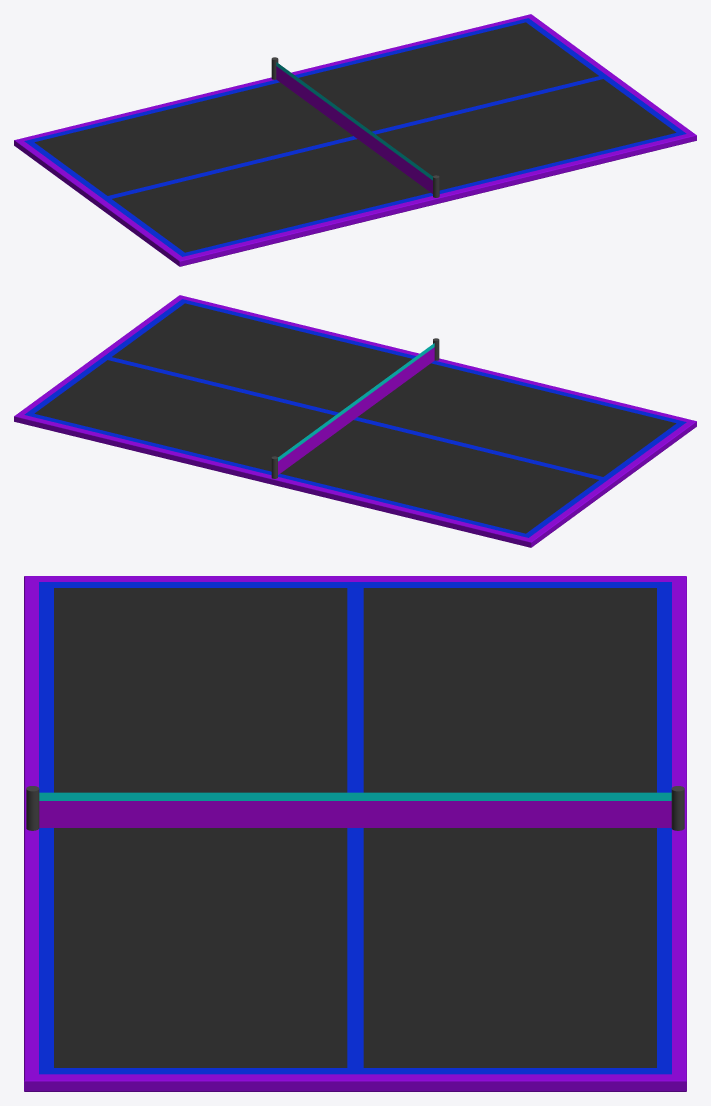
The model's file is table2.fbx.
3 renders of one model, top to bottom at view 1: azimuth 30°, elevation 25°; view 2: azimuth 150°, elevation 25°; view 3: azimuth 270°, elevation 25°, orthographic. The views are drawn at different scales.
Parts seen in each view (by area): view 1: Box001, Plane001; view 2: Box001, Plane001; view 3: Box001, Plane001.
Part boxes in pixels (x1=…): Box001: x1=14, y1=14, x2=696, y2=266; Plane001: x1=276, y1=62, x2=432, y2=193; Box001: x1=14, y1=295, x2=696, y2=547; Plane001: x1=278, y1=343, x2=434, y2=474; Box001: x1=24, y1=576, x2=686, y2=1091; Plane001: x1=39, y1=792, x2=671, y2=827.
Size of the model in its own units: 2.52 by 0.1193 by 1.4.
